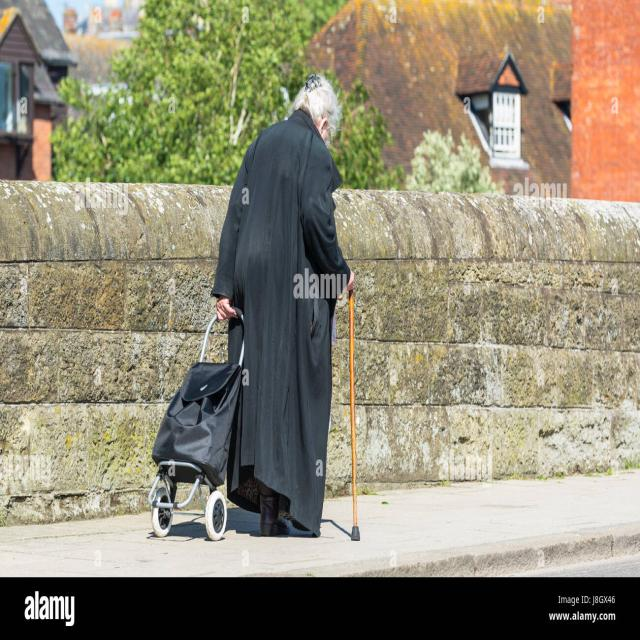idoso em pe: (209, 58, 353, 563)
